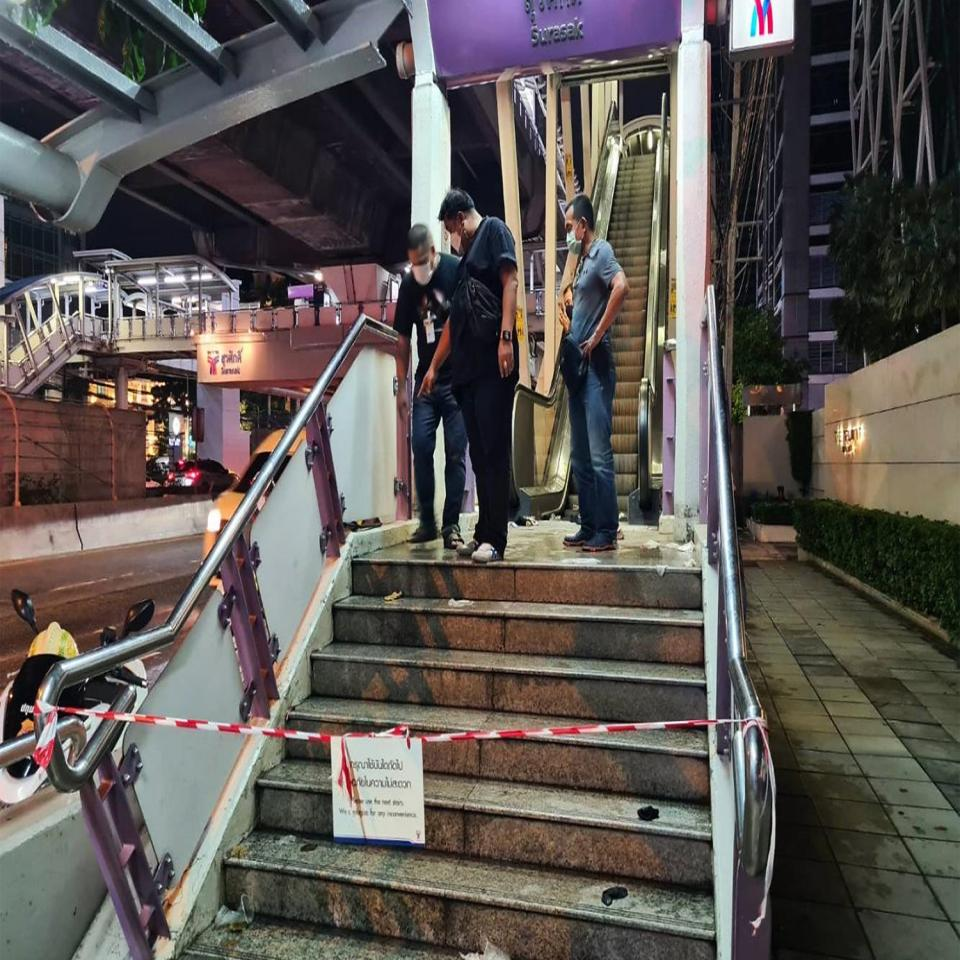Surasak: (207, 346, 244, 376), (220, 346, 244, 376)
